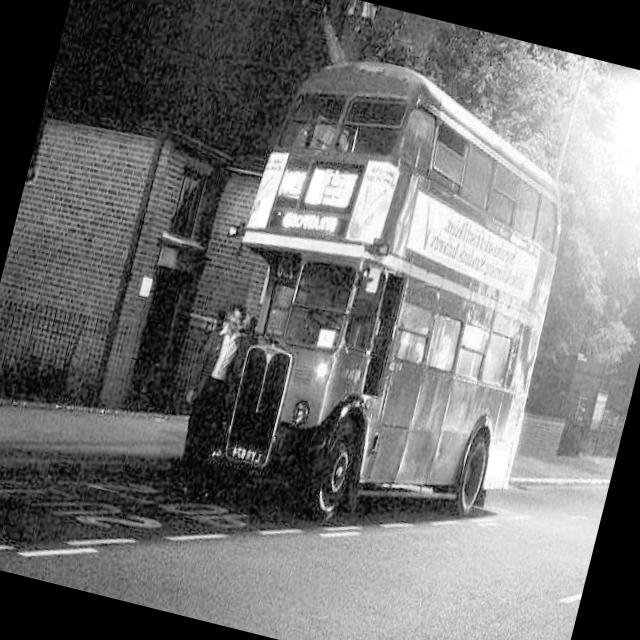Bus: (157, 11, 612, 616)
Person: (156, 282, 258, 503)
